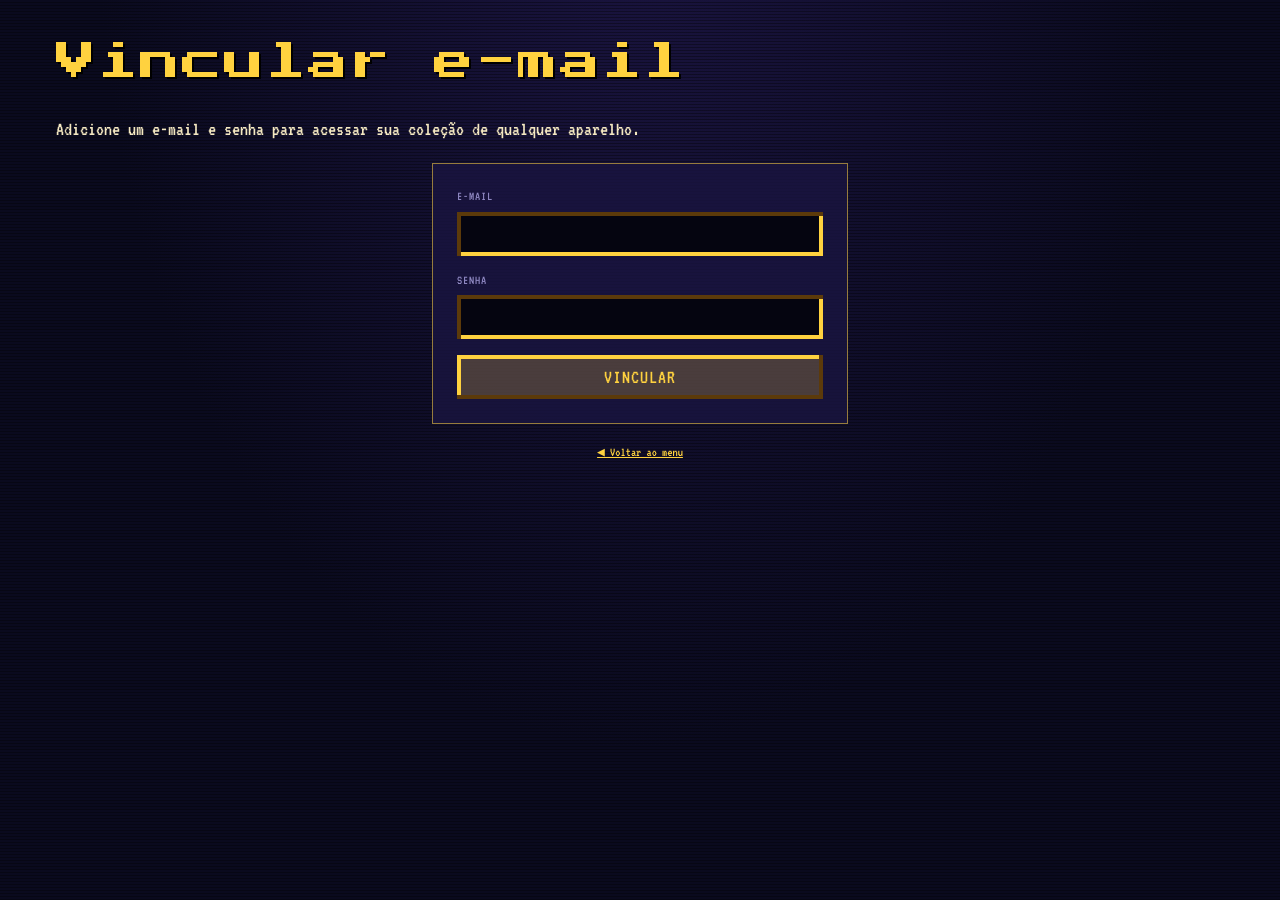
Test: LinkEmailForm › shows a generic failure message for any other error
Type "player@example.com" into the field labelled "E-mail" at [640, 234], box [457, 212, 823, 256]
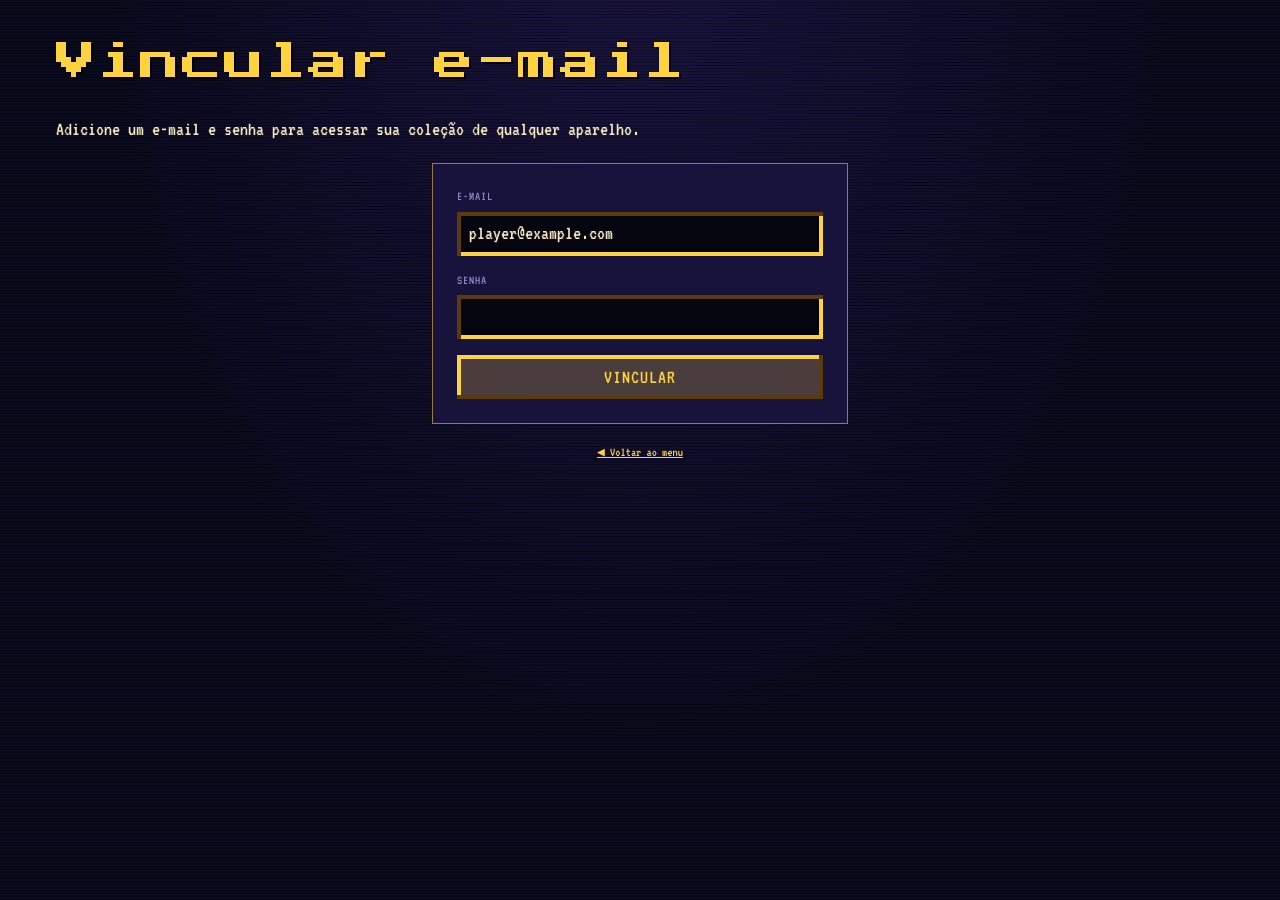
Type "s3nha123" into the password field labelled "Senha" at [640, 317], box [457, 295, 823, 339]
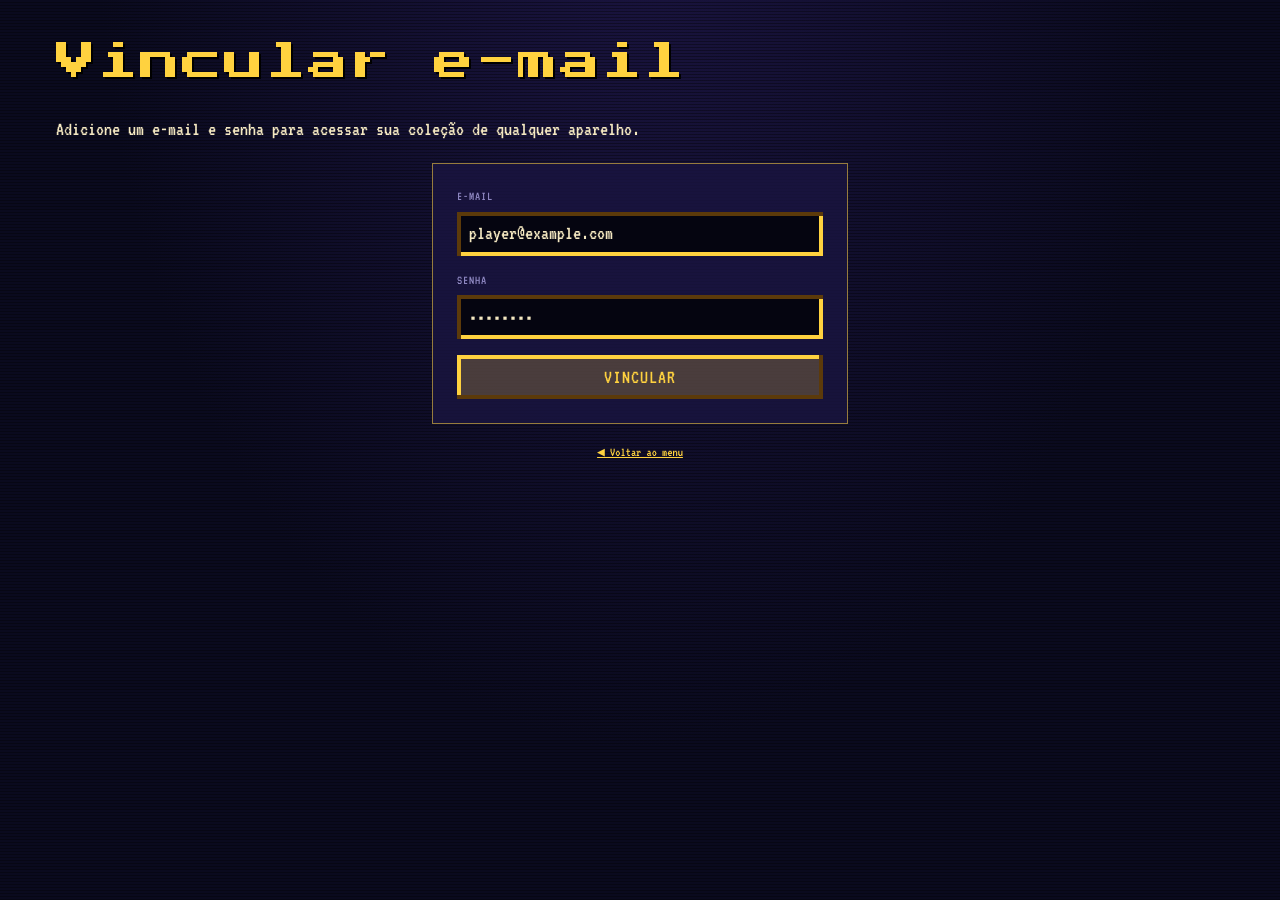
Click the button "Vincular" at [640, 377], box [457, 355, 823, 399]
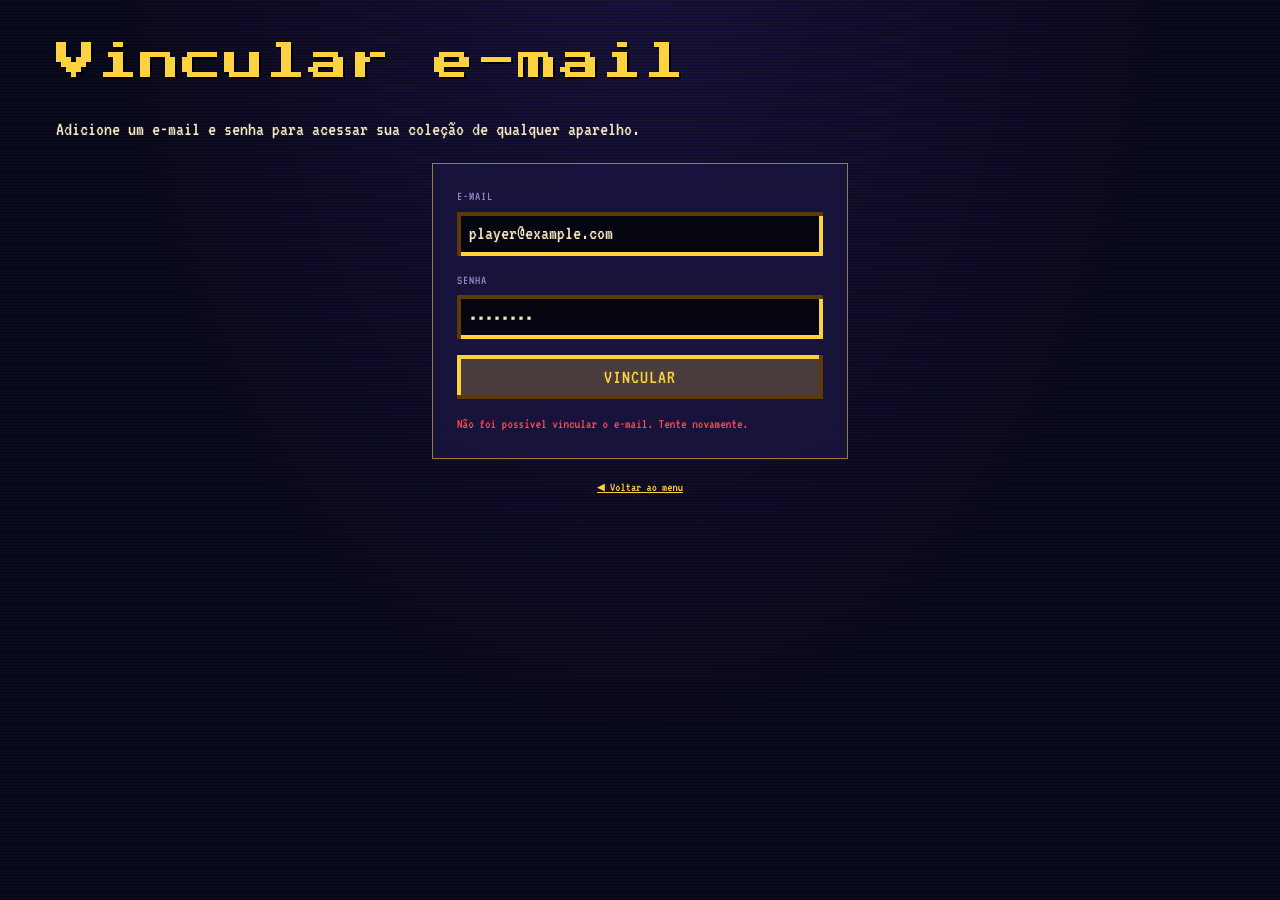
Result: the text "Não foi possível vincular o e-mail. Tente novamente." is shown at [457, 417, 748, 431]
